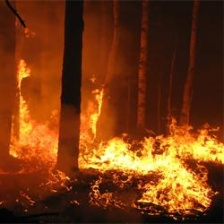fire: (8, 66, 224, 210)
